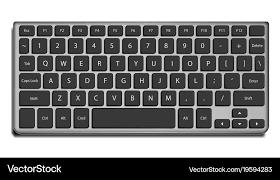keyboard: (9, 17, 270, 138)
